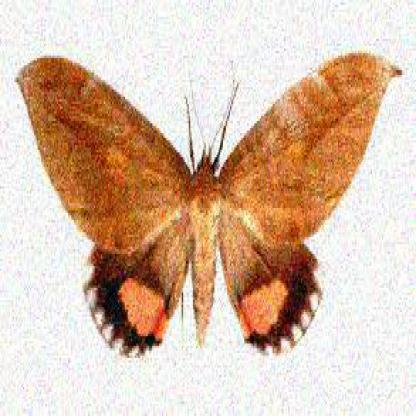fruit sucking moth: (14, 54, 402, 362)
